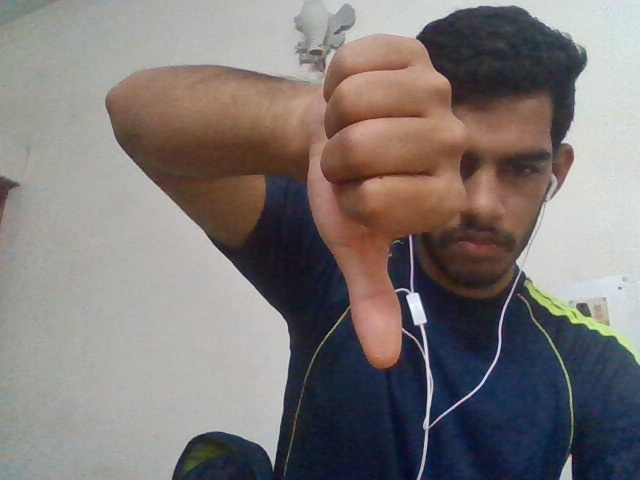no: (278, 52, 477, 372)
